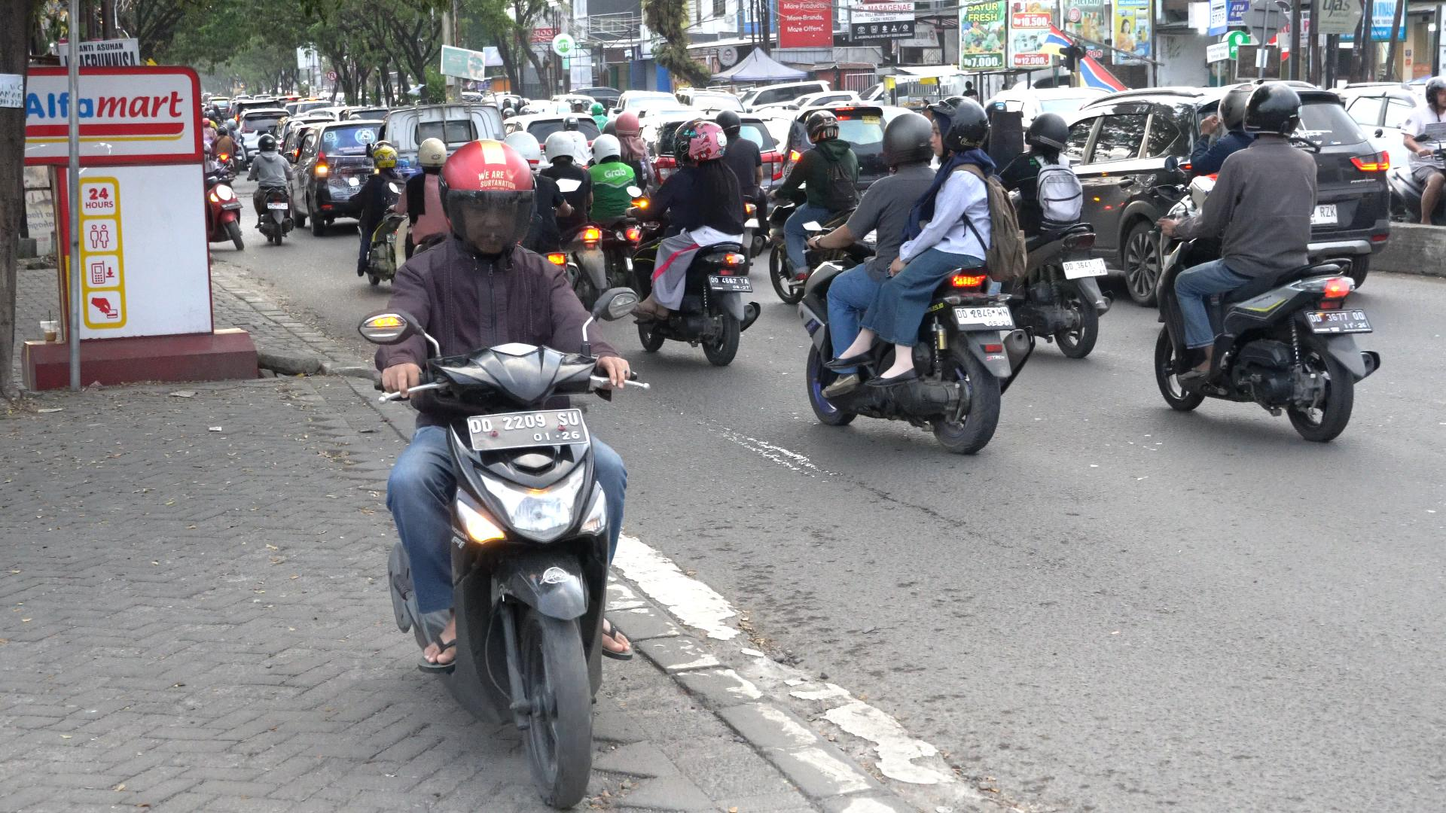number-plate: (464, 407, 588, 451)
